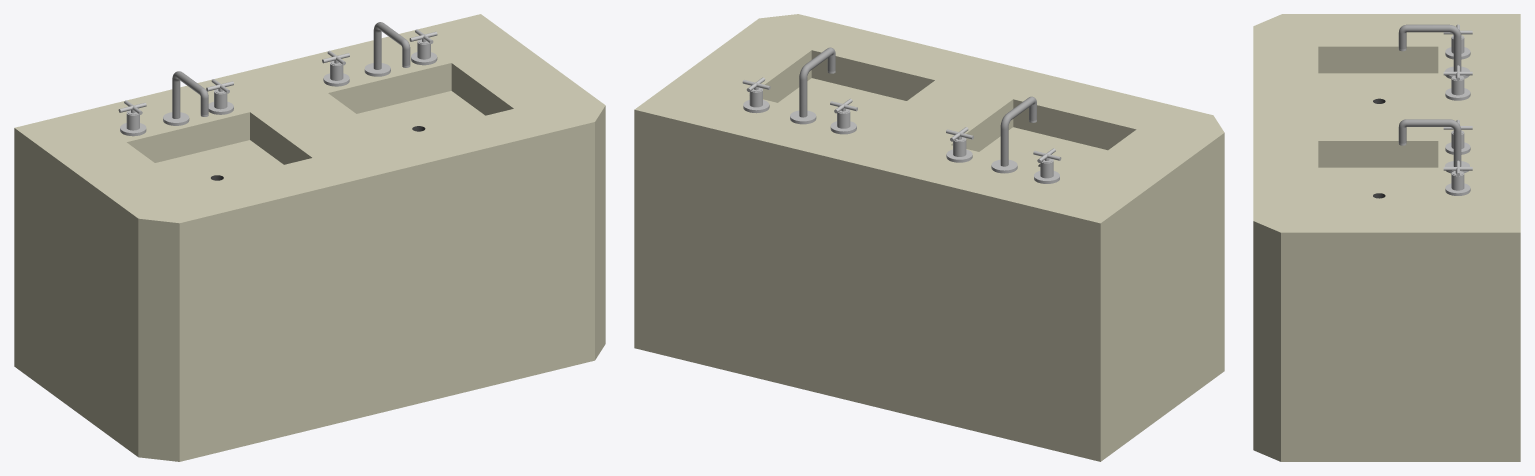
Rendered from dual_sink.fbx.
The picture shows the model from 3 angles, left to right: view 1: azimuth 30°, elevation 25°; view 2: azimuth 150°, elevation 25°; view 3: azimuth 270°, elevation 25°; orthographic projection. The views are drawn at different scales.
Visible parts, largest first — view 1: Group1, Group6, Group7, Group2, Group4, Group5, Group3; view 2: Group1, Group6, Group7, Group5, Group3, Group4, Group2; view 3: Group1, Group7, Group6, Group3, Group4, Group2, Group5.
Boxes of the visible parts, x1,y1,x2,y2 form: Group1: (14, 14, 605, 461); Group6: (364, 22, 410, 76); Group7: (163, 71, 208, 125); Group2: (118, 100, 146, 136); Group4: (409, 29, 437, 65); Group5: (322, 50, 349, 86); Group3: (206, 79, 233, 114); Group1: (634, 14, 1224, 461); Group6: (790, 47, 835, 124); Group7: (991, 96, 1036, 173); Group5: (830, 98, 857, 134); Group3: (946, 127, 973, 162); Group4: (742, 77, 770, 113); Group2: (1033, 148, 1061, 183); Group1: (1253, 14, 1520, 461); Group7: (1398, 24, 1469, 78); Group6: (1398, 119, 1469, 173); Group3: (1443, 65, 1472, 100); Group4: (1443, 160, 1472, 195); Group2: (1443, 24, 1472, 59); Group5: (1443, 119, 1472, 154).
Size of the model in its own units: 1.56 by 0.926 by 0.805.
